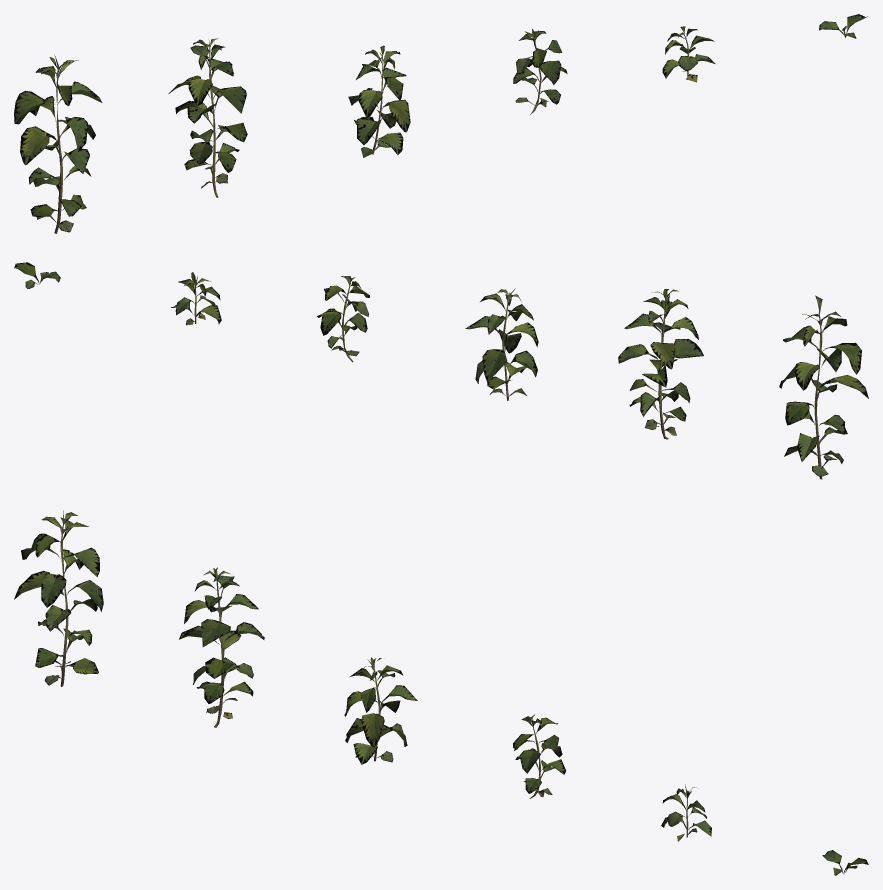
Rendered from nettle_plant.glb.
3 renders of one model, top to bottom at view 1: azimuth 30°, elevation 25°; view 2: azimuth 150°, elevation 25°; view 3: azimuth 330°, elevation 25°, orthographic.
Parts seen in each view (by area): view 1: nettle_plant_medium_a_LOD0; view 2: nettle_plant_medium_a_LOD0; view 3: nettle_plant_medium_a_LOD0.
Boxes of the visible parts, x1,y1,x2,y2 form: nettle_plant_medium_a_LOD0: (14,14,867,233); nettle_plant_medium_a_LOD0: (14,262,868,479); nettle_plant_medium_a_LOD0: (14,510,868,875).
Size of the model in its own units: 1.08 by 0.2181 by 0.0947.
1 material, 1 textured.
